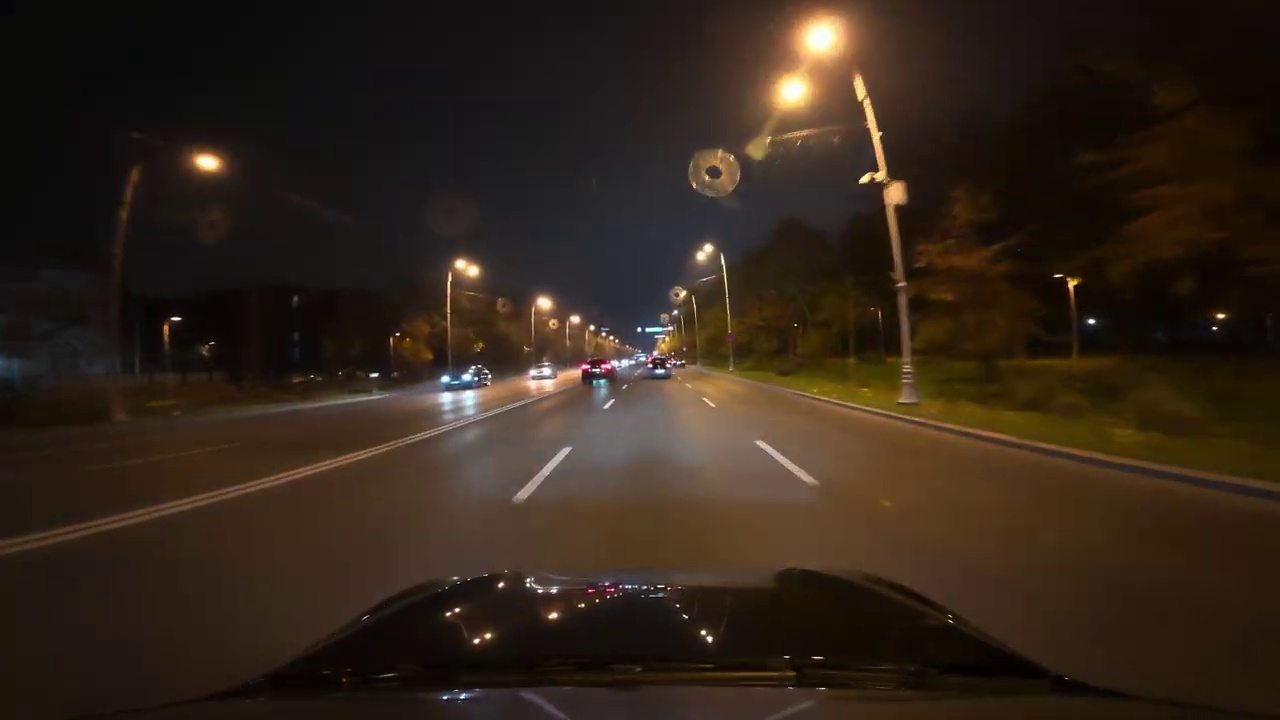acesa: (795, 17, 845, 62), (772, 71, 817, 111), (191, 149, 226, 178), (451, 257, 482, 283), (692, 241, 718, 266), (532, 293, 556, 317)
